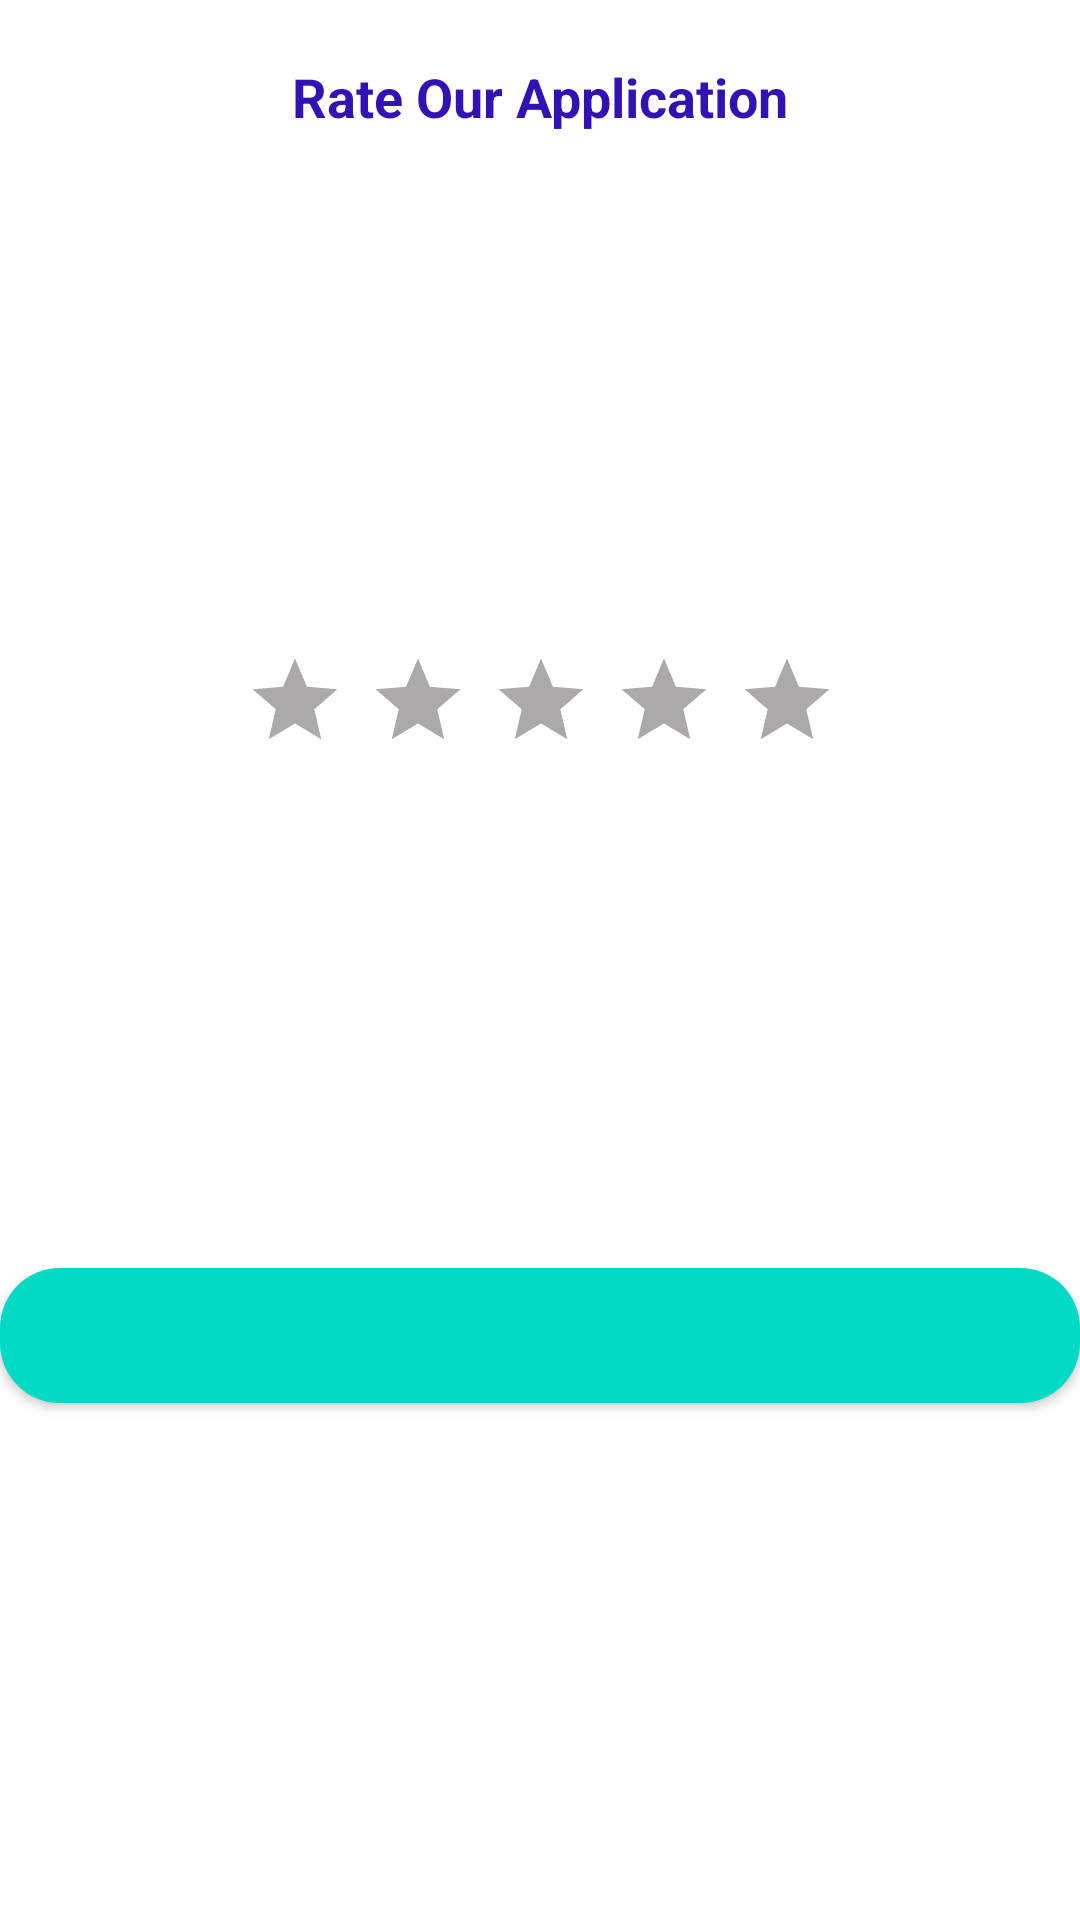

Icon click points for this 1080 × 1920 phone screenshot, format point (x, y):
star unfilled: point (295, 699), point (418, 699), point (541, 699), point (664, 699), point (787, 699)
